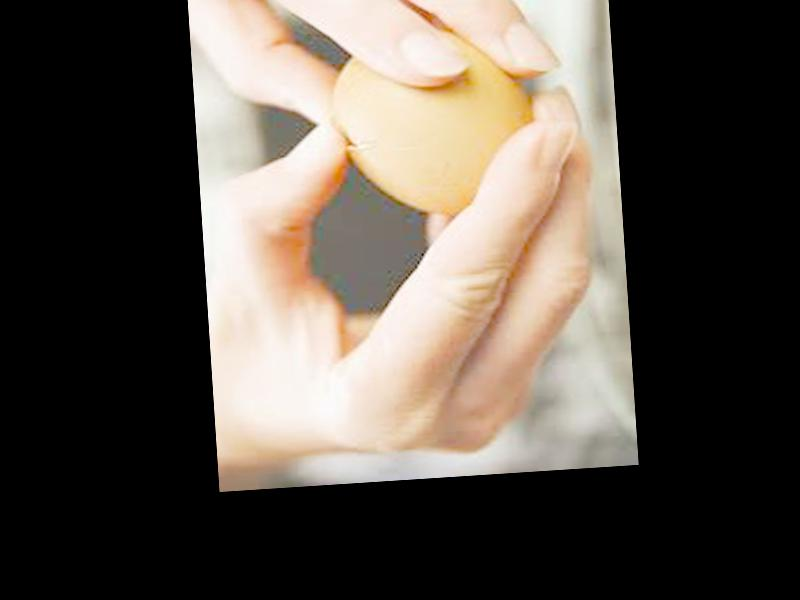Eggs: (325, 22, 542, 221)
